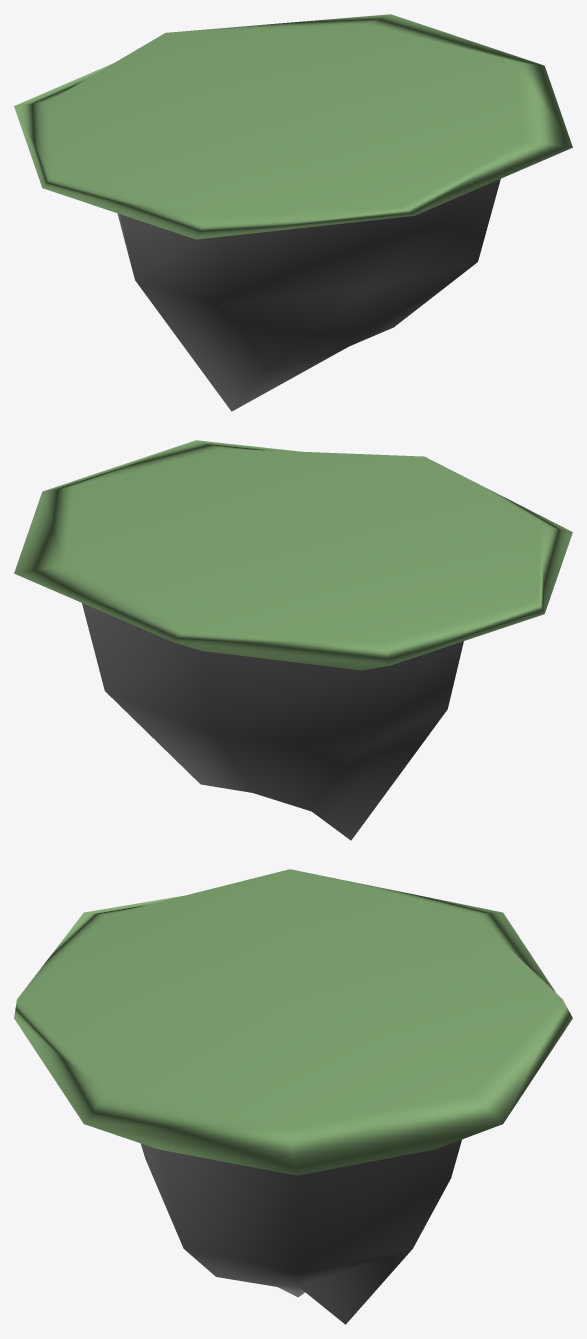
The model's file is bIG.fbx.
3 renders of one model, top to bottom at view 1: azimuth 30°, elevation 25°; view 2: azimuth 150°, elevation 25°; view 3: azimuth 270°, elevation 25°, orthographic. The views are drawn at different scales.
Parts seen in each view (by area): view 1: pCube31; view 2: pCube31; view 3: pCube31.
Boxes of the visible parts, x1,y1,x2,y2 form: pCube31: [14, 14, 572, 411]; pCube31: [14, 440, 572, 840]; pCube31: [14, 869, 572, 1324].
Size of the model in its own units: 84.33 by 45.96 by 70.62.
